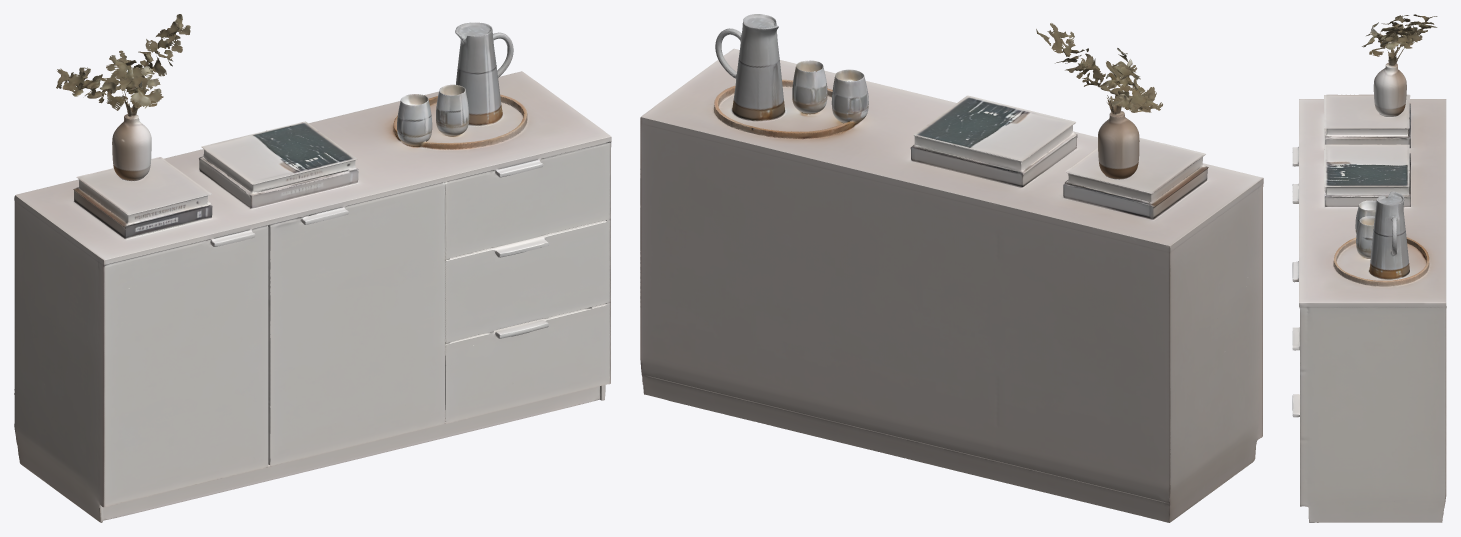
The model's file is julian-sideboard.glb.
3 renders of one model, left to right at view 1: azimuth 30°, elevation 25°; view 2: azimuth 150°, elevation 25°; view 3: azimuth 270°, elevation 25°, orthographic. The views are drawn at different scales.
Parts seen in each view (by area): view 1: model; view 2: model; view 3: model.
Part boxes in pixels (x1,y1,x2,y2): model: [14, 14, 611, 522]; model: [640, 14, 1263, 522]; model: [1292, 14, 1446, 522].
Size of the model in its own units: 1.76 by 1.42 by 0.5627.
1 material, 1 textured.
